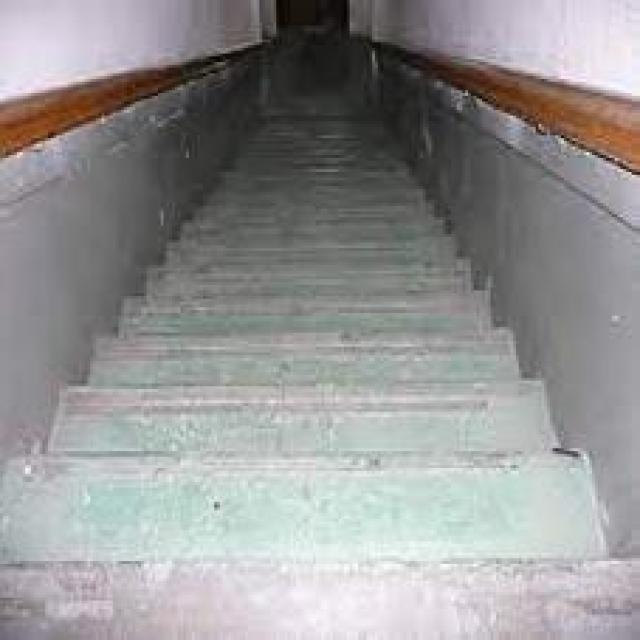downstair: (40, 373, 489, 531)
